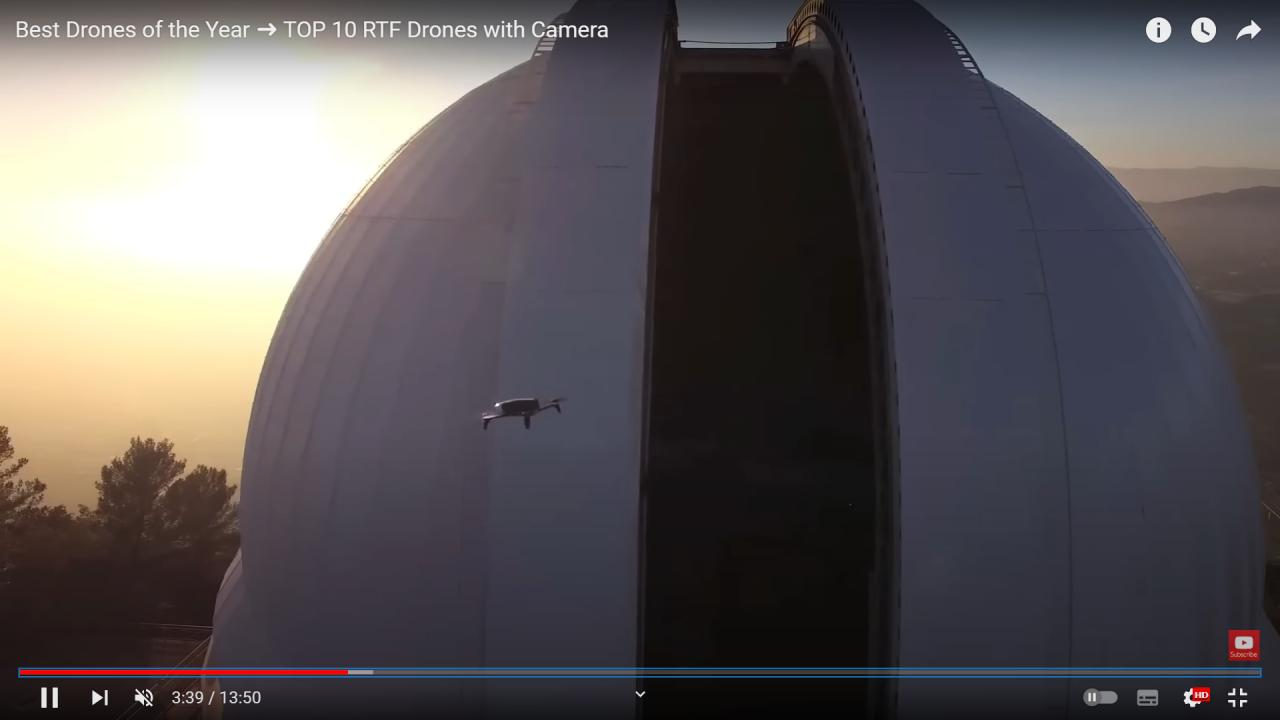Drone: (461, 375, 582, 446)
